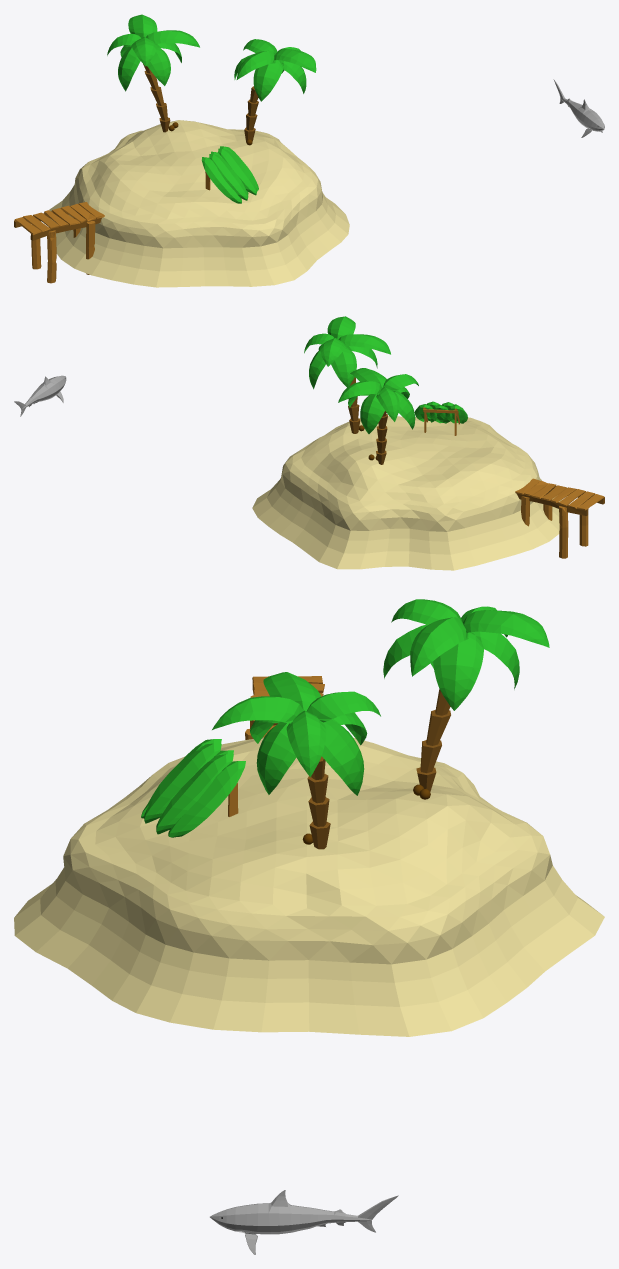
Rendered from island.glb.
3 renders of one model, top to bottom at view 1: azimuth 30°, elevation 25°; view 2: azimuth 150°, elevation 25°; view 3: azimuth 270°, elevation 25°, orthographic. The views are drawn at different scales.
Visible parts, largest first — view 1: Island, Tree2, Dock, Tree3_03 - Default_0, Shack_03 - Default_0, Object_85, Tree3_02 - Default_0; view 2: Island, Tree2, Tree3_03 - Default_0, Dock, Shack_03 - Default_0, Object_85; view 3: Island, Tree2, Tree3_03 - Default_0, Shack_03 - Default_0, Object_85, Tree3_02 - Default_0.
Part boxes in pixels (box(x1,y1,x2,y2)): Island: box(49, 120, 349, 287); Tree2: box(107, 14, 199, 132); Dock: box(14, 202, 104, 283); Tree3_03 - Default_0: box(234, 39, 316, 101); Shack_03 - Default_0: box(201, 146, 258, 203); Object_85: box(553, 79, 604, 137); Tree3_02 - Default_0: box(244, 86, 258, 141); Island: box(252, 416, 561, 570); Tree2: box(338, 368, 418, 464); Tree3_03 - Default_0: box(304, 316, 390, 389); Dock: box(515, 478, 604, 558); Shack_03 - Default_0: box(414, 401, 467, 423); Object_85: box(14, 375, 66, 416); Island: box(14, 737, 604, 1036); Tree2: box(383, 599, 549, 791); Tree3_03 - Default_0: box(212, 672, 380, 795); Shack_03 - Default_0: box(141, 739, 245, 837); Object_85: box(210, 1190, 398, 1254); Tree3_02 - Default_0: box(307, 756, 330, 849).
Bounding box in the file's own units: 392 × 115 × 193.
